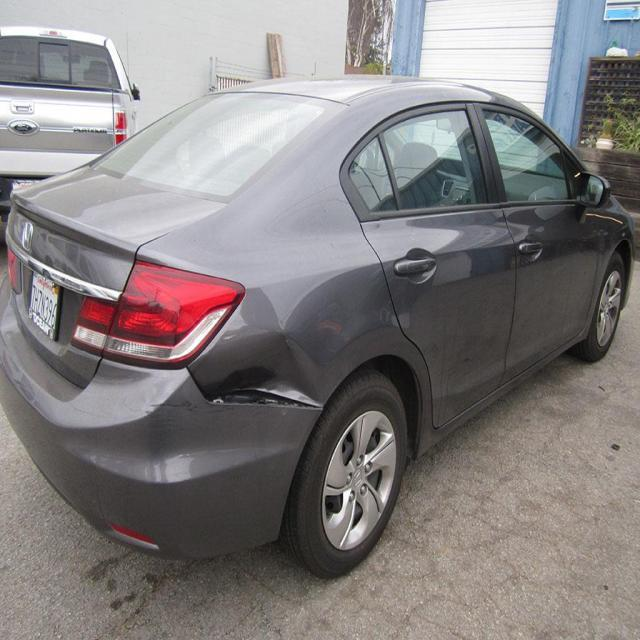dent: (190, 374, 328, 424)
